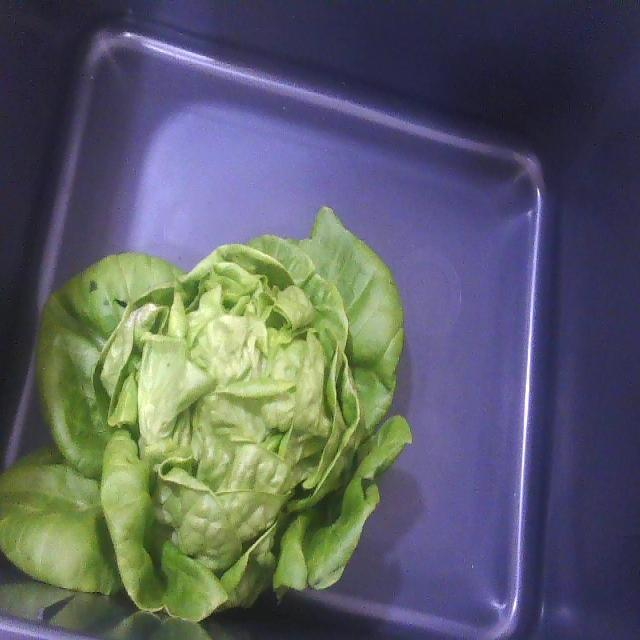lettuce: (0, 208, 411, 621)
